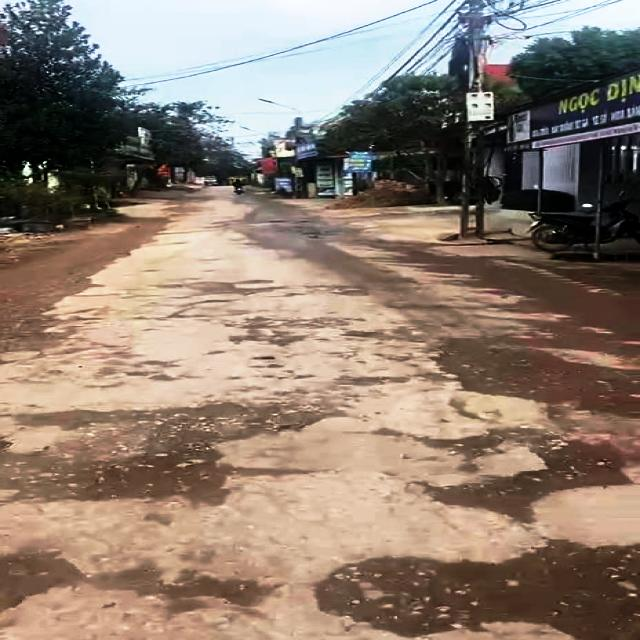pothole: (0, 394, 357, 503), (310, 534, 640, 640), (0, 536, 281, 640), (405, 428, 640, 526), (418, 337, 640, 422), (0, 311, 84, 352), (233, 314, 335, 346), (182, 276, 283, 295), (296, 282, 376, 296)
